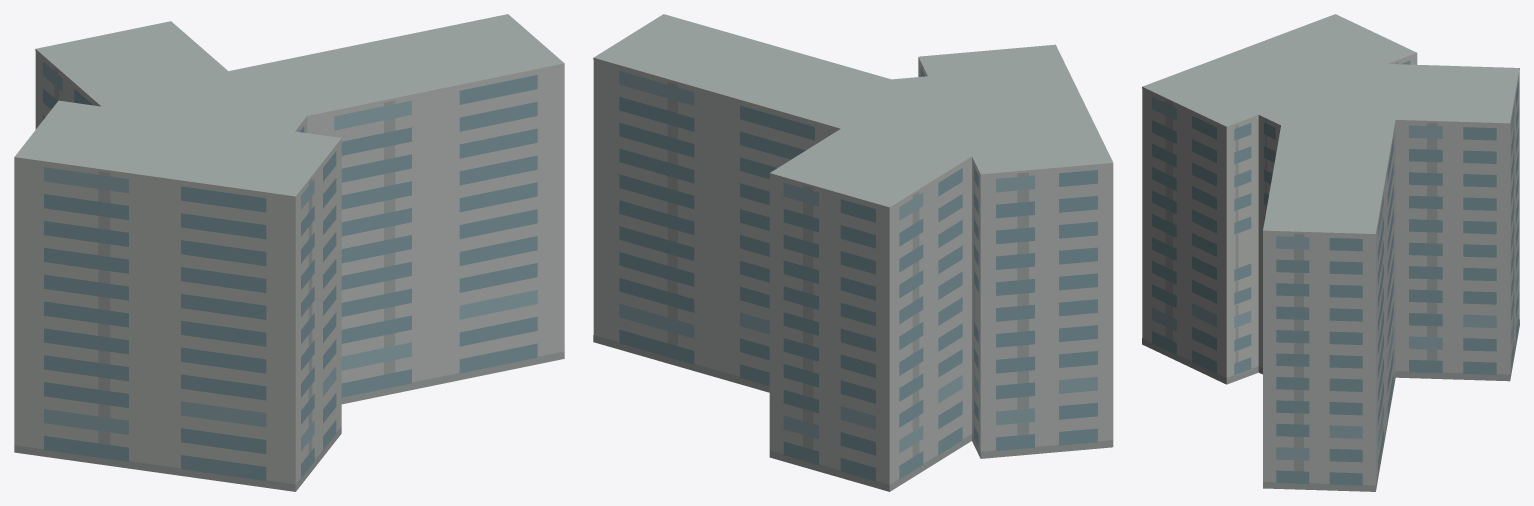
File: residential-9735911c-5507-4c53-8028-4c364efc8597.glb
3 renders of one model, left to right at view 1: azimuth 30°, elevation 25°; view 2: azimuth 150°, elevation 25°; view 3: azimuth 270°, elevation 25°, orthographic. The views are drawn at different scales.
Parts seen in each view (by area): view 1: residential-9735911c-5507-4c53-8028-4c364efc8597.tmp; view 2: residential-9735911c-5507-4c53-8028-4c364efc8597.tmp; view 3: residential-9735911c-5507-4c53-8028-4c364efc8597.tmp.
Boxes of the visible parts, <box> form: residential-9735911c-5507-4c53-8028-4c364efc8597.tmp: <box>14,14,564,491</box>; residential-9735911c-5507-4c53-8028-4c364efc8597.tmp: <box>593,14,1113,491</box>; residential-9735911c-5507-4c53-8028-4c364efc8597.tmp: <box>1142,14,1519,491</box>.
Size of the model in its own units: 56.76 by 31 by 41.15.
